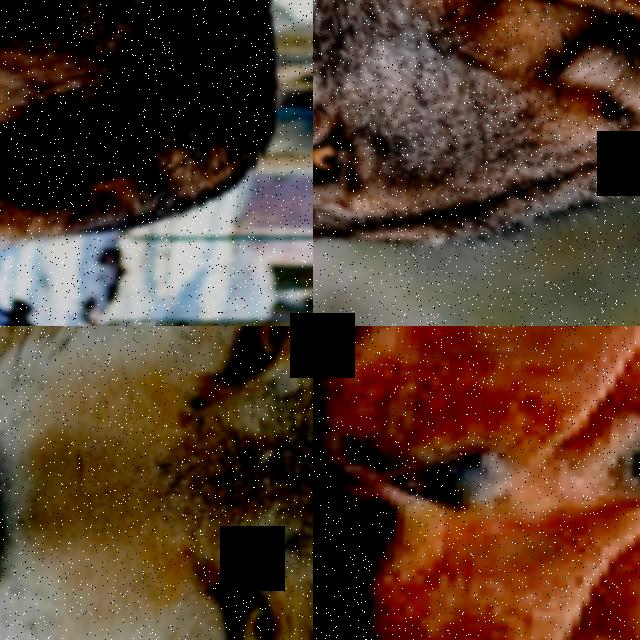dog: (313, 326, 640, 640), (313, 326, 640, 556), (313, 446, 640, 640)
wolf: (313, 0, 640, 326), (0, 0, 313, 326), (0, 326, 313, 640)
